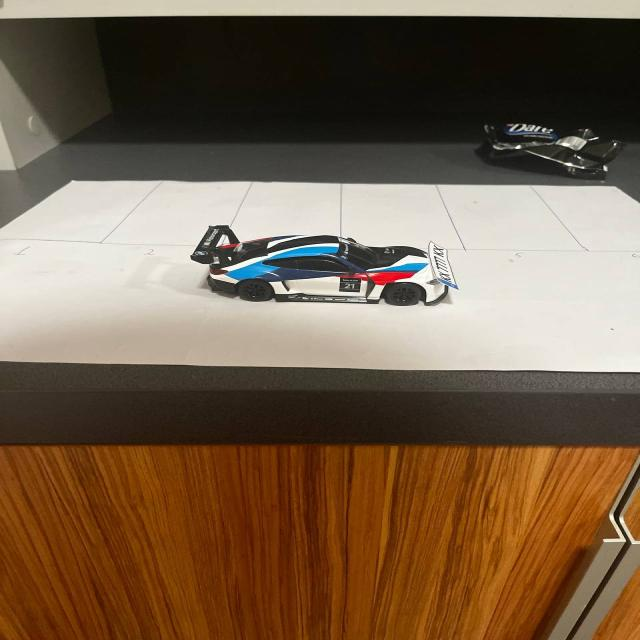cars: (161, 215, 501, 320)
